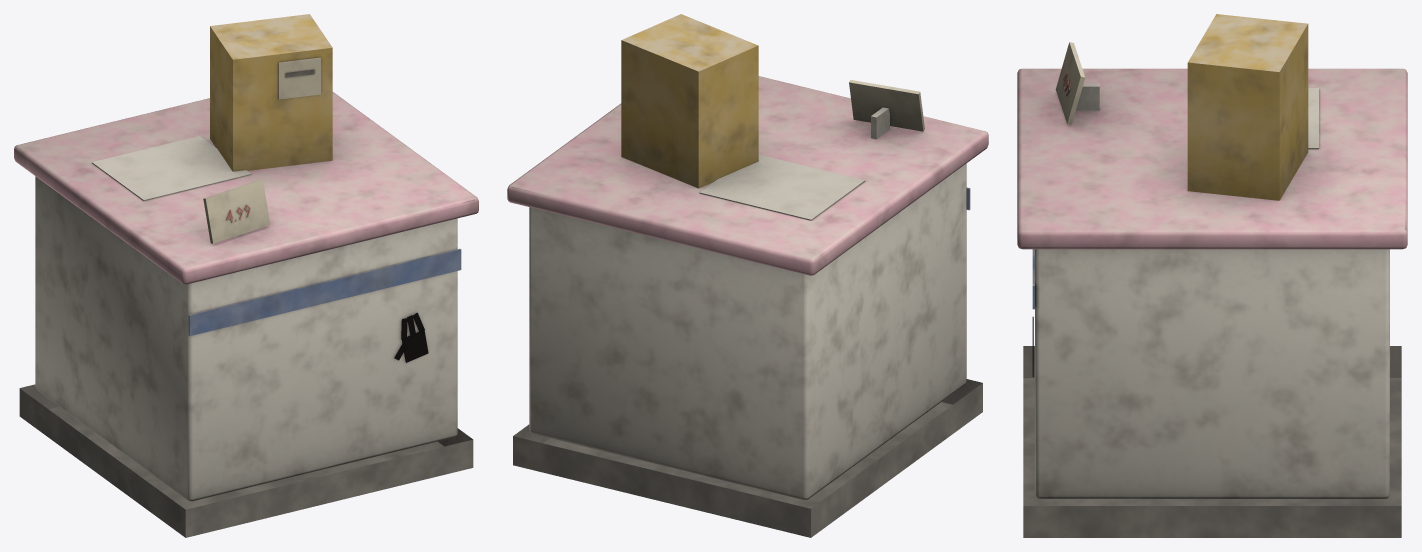
File: lone_display.fbx
3 views of the same model, side by side, from view 1: azimuth 30°, elevation 25°; view 2: azimuth 150°, elevation 25°; view 3: azimuth 270°, elevation 25° (orthographic). The views are drawn at different scales.
Parts seen in each view (by area): view 1: Body; view 2: Body; view 3: Body.
Boxes of the visible parts, <box> form: Body: <box>14,14,478,537</box>; Body: <box>507,14,988,537</box>; Body: <box>1017,14,1407,537</box>.
Bounding box in the file's own units: 3.3 × 4.08 × 3.3.
1 material, 1 textured.
